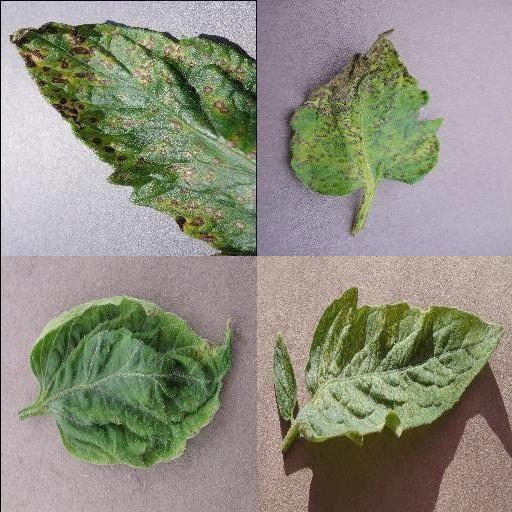Septoria: (10, 20, 256, 255), (289, 29, 445, 195)
Spider Mites: (298, 286, 504, 444)
Yellow Leaf Curl Virus: (28, 297, 238, 469)
